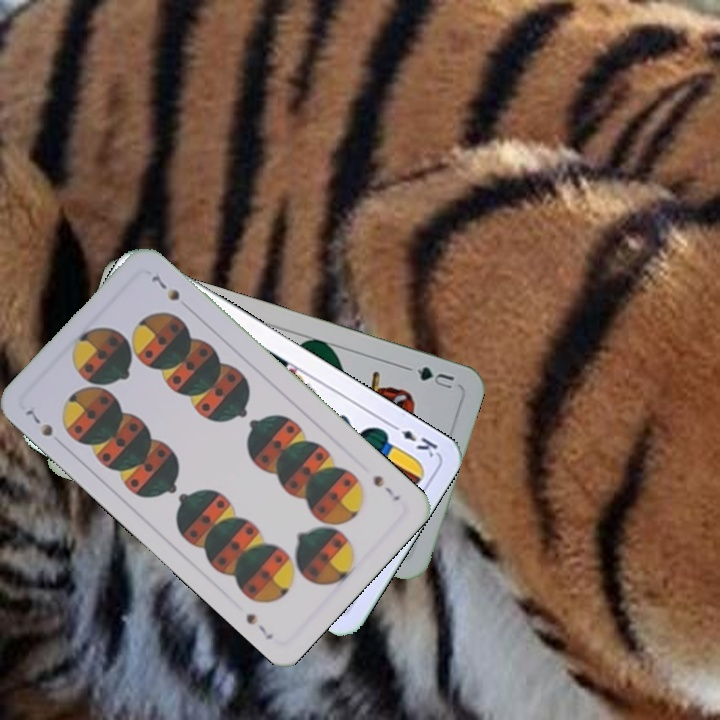EK: (385, 419, 441, 460)
GU: (412, 362, 457, 392)
S7: (21, 405, 56, 439), (368, 471, 403, 504)
